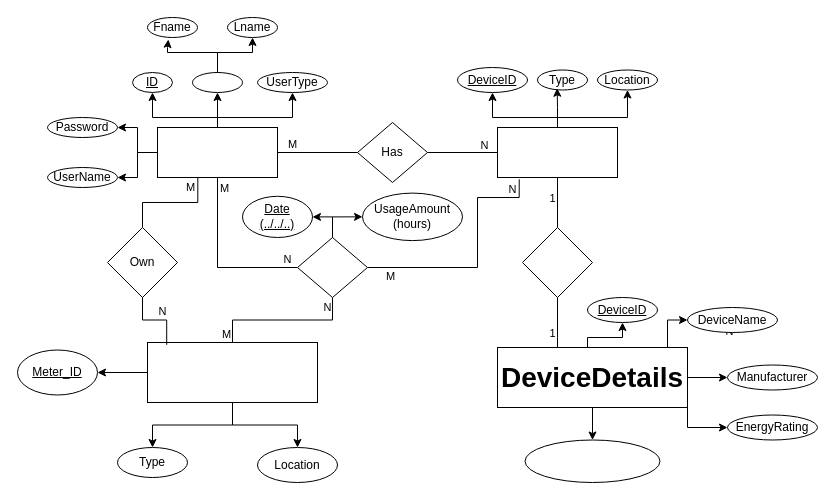
Image size: 835x500. Some labels were removed from this diagram. Each missing label, with the centre of its shape:
"BelongsTo" belongs at (x=557, y=262).
"Device" belongs at (x=557, y=152).
"Meter" belongs at (x=232, y=372).
"Name" belongs at (x=217, y=82).
"PowerConsumption (perHours)" belongs at (x=592, y=460).
"Users" belongs at (x=217, y=152).
"Uses" belongs at (x=332, y=267).
